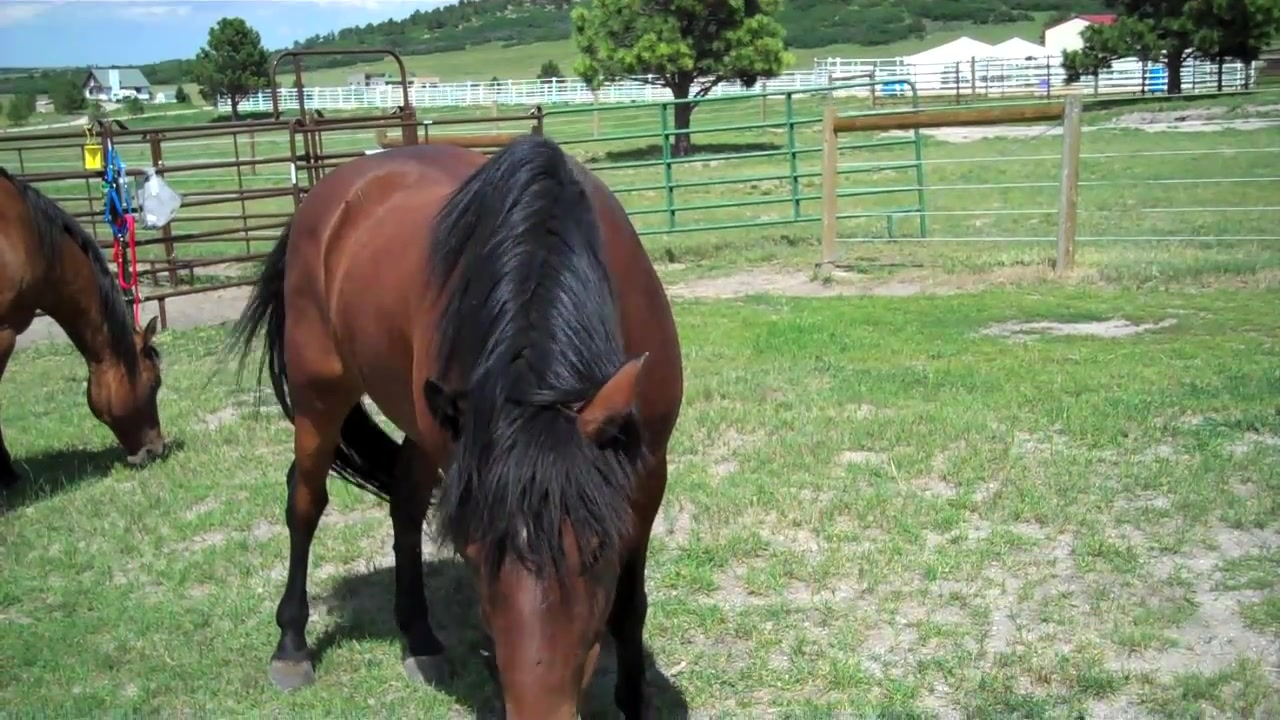horse: (206, 135, 687, 720), (1, 160, 168, 503)
